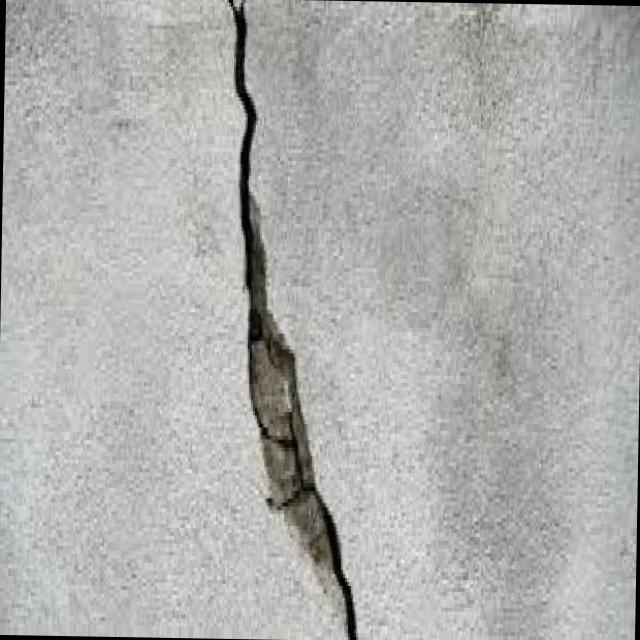crack: (226, 0, 369, 636)
